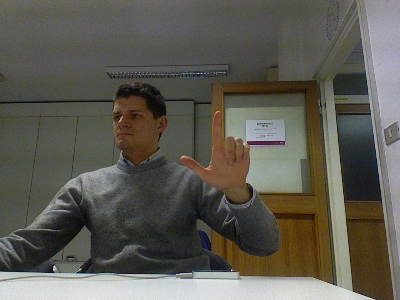枪: (178, 109, 251, 190)
